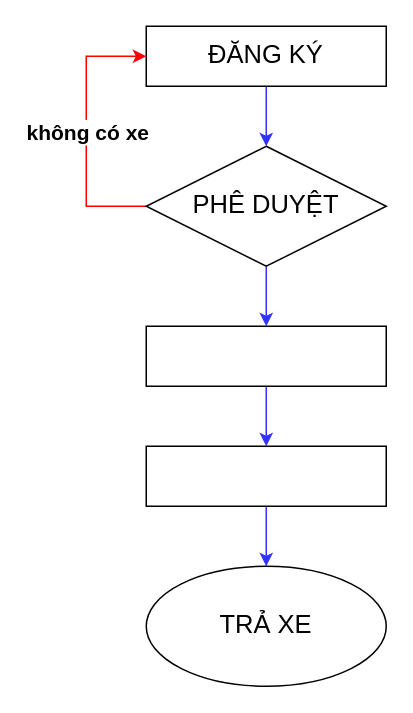
Some shapes in this 413 by 713 pixel diagram are drawn without their labels. Each missing label, with the box of its shape:
THỰC HIỆN CHUYẾN: (145, 445, 386, 506)
ĐIỀU ĐỘNG XE: (145, 325, 386, 386)
